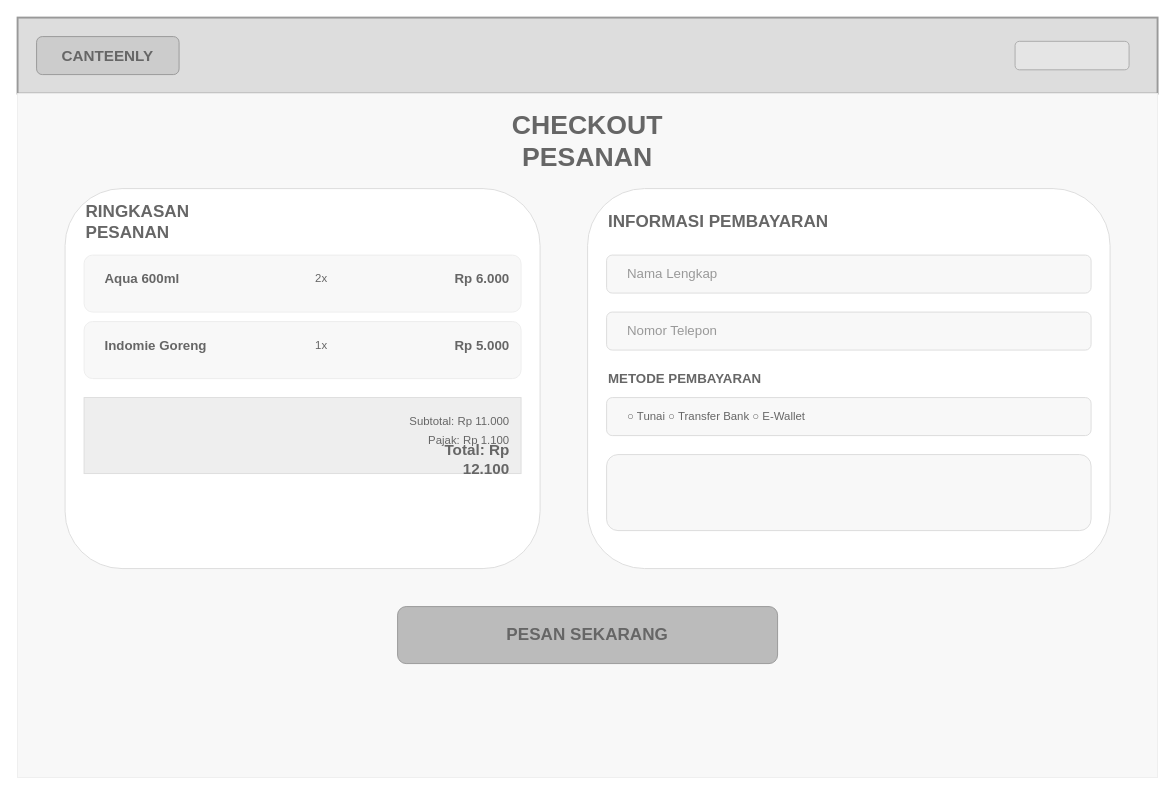
Some shapes in this 1174 by 794 pixel diagram are drawn without their labels. Here are the shapes that lost their labels. From the top down, the box of each, then its label:
(1014, 40, 1129, 70): ← Kembali
(606, 454, 1091, 531): Catatan (Opsional)
